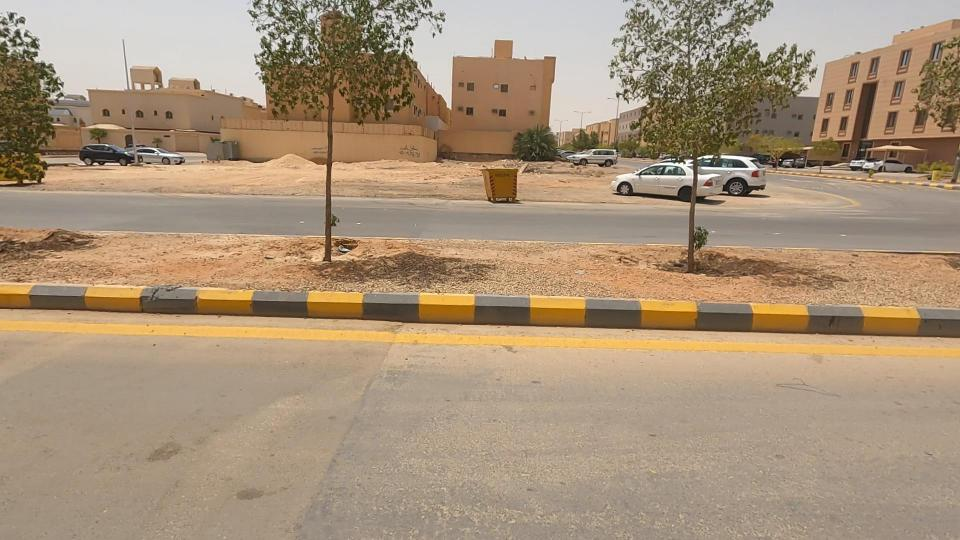GRAFFITI: (364, 126, 460, 180), (274, 137, 332, 165)
SAND_ON_ROAD: (229, 138, 343, 195)
